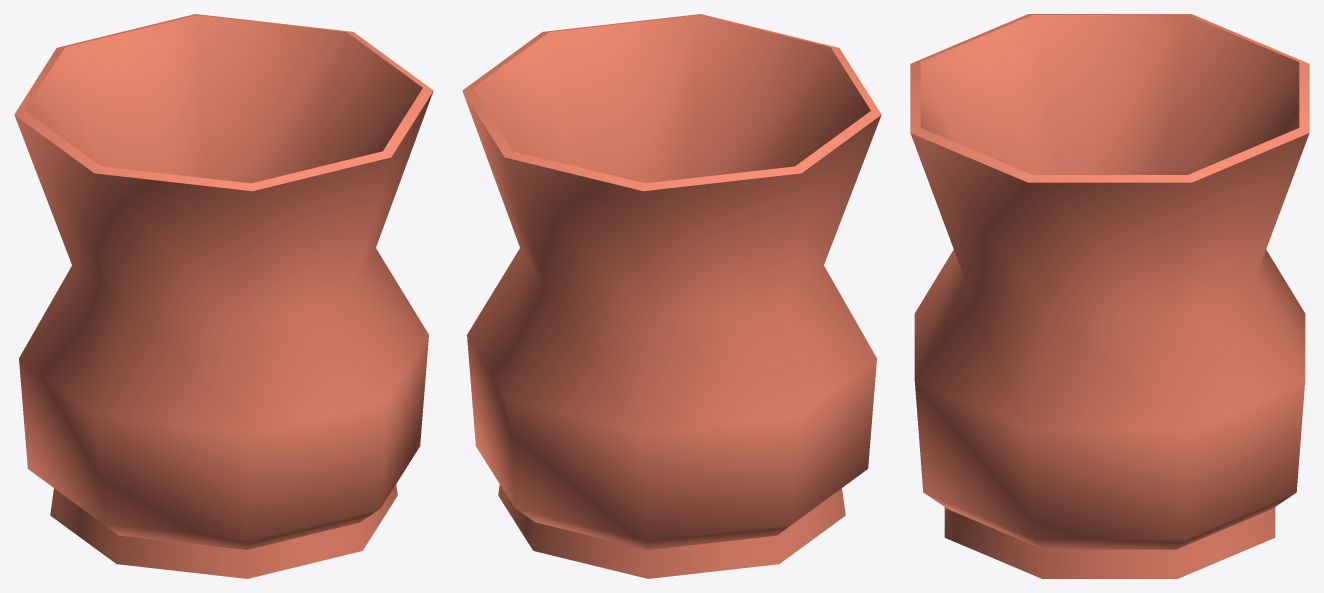
Rendered from NST_Vase.fbx.
3 views of the same model, side by side, from view 1: azimuth 30°, elevation 25°; view 2: azimuth 150°, elevation 25°; view 3: azimuth 270°, elevation 25° (orthographic).
Parts seen in each view (by area): view 1: Vase; view 2: Vase; view 3: Vase.
Boxes of the visible parts, x1=… form: Vase: x1=14, y1=14, x2=433, y2=578; Vase: x1=462, y1=14, x2=881, y2=578; Vase: x1=910, y1=14, x2=1309, y2=578.
Size of the model in its own units: 20.8 by 23.8 by 20.8.
